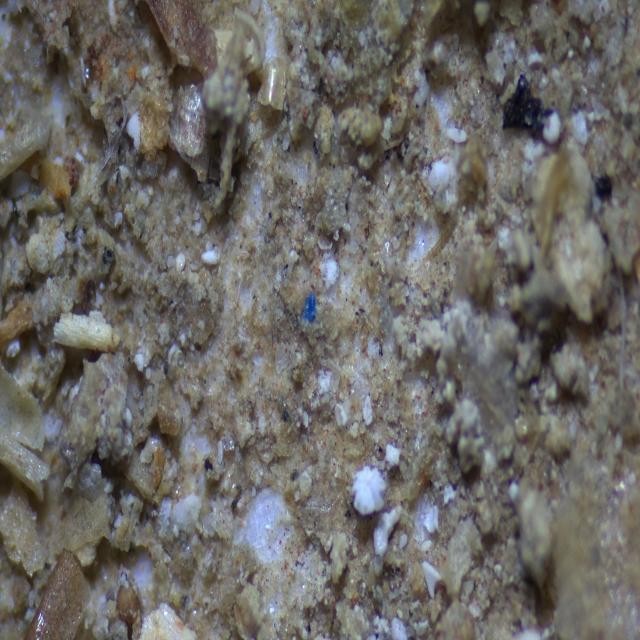microplastic: (289, 280, 330, 332)
